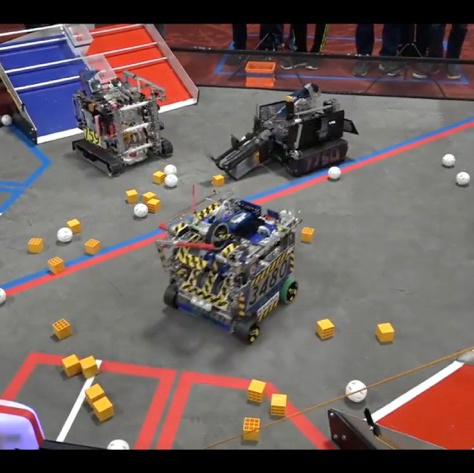robot: (153, 186, 302, 349), (209, 77, 362, 176), (68, 65, 176, 180)
